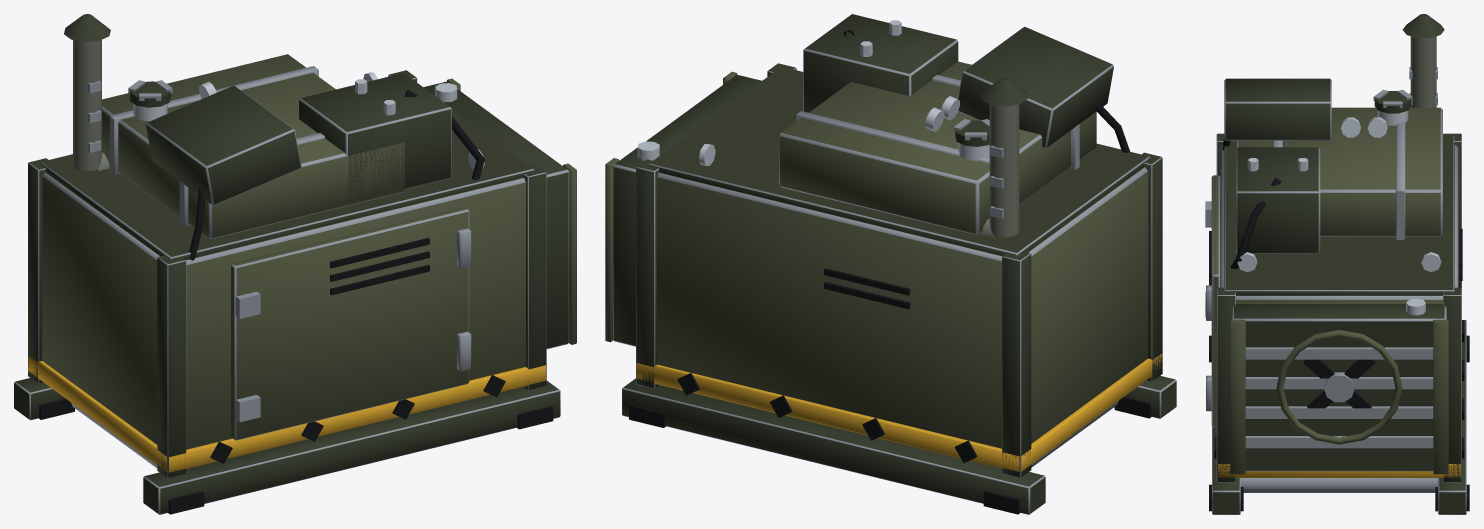
The model's file is generador_energia.glb.
The picture shows the model from 3 angles, left to right: view 1: azimuth 30°, elevation 25°; view 2: azimuth 150°, elevation 25°; view 3: azimuth 270°, elevation 25°; orthographic projection. The views are drawn at different scales.
Visible parts, largest first — view 1: cuerpo, puerta_servicio, deposito, patin_1, techo, bateria, panel_control, banda_peligro, radiador, esquinero_1, esquinero_2, escape (+10 smaller); view 2: cuerpo, deposito, techo, patin_2, panel_control, banda_peligro, bateria, radiador, esquinero_3, esquinero_4, escape, esquinero_1 (+6 smaller); view 3: radiador, deposito, techo, bateria, panel_control, cuerpo, esquinero_2, travesaño_2, esquinero_4, aro_ventilador, marco_radiador_1, marco_radiador_2 (+22 smaller).
Part boxes in pixels (<box>): cuerpo: <box>42,172,525,449</box>; puerta_servicio: <box>231,207,469,440</box>; deposito: <box>102,54,405,239</box>; patin_1: <box>143,380,560,514</box>; techo: <box>40,109,534,259</box>; bateria: <box>299,73,451,201</box>; panel_control: <box>146,85,301,205</box>; banda_peligro: <box>28,356,545,472</box>; radiador: <box>423,81,569,348</box>; esquinero_1: <box>157,255,186,478</box>; esquinero_2: <box>523,165,546,390</box>; escape: <box>73,40,101,171</box>; cuerpo: <box>657,167,1147,448</box>; deposito: <box>779,61,1096,234</box>; techo: <box>648,66,1150,255</box>; patin_2: <box>622,378,1045,514</box>; panel_control: <box>958,27,1113,148</box>; banda_peligro: <box>636,354,1162,471</box>; bateria: <box>803,14,958,112</box>; radiador: <box>613,74,761,346</box>; esquinero_3: <box>1002,251,1031,477</box>; esquinero_4: <box>636,159,659,388</box>; escape: <box>989,104,1019,237</box>; esquinero_1: <box>1142,152,1162,381</box>; radiador: <box>1232,304,1446,471</box>; deposito: <box>1236,107,1442,236</box>; techo: <box>1224,135,1454,295</box>; bateria: <box>1236,147,1320,253</box>; panel_control: <box>1224,78,1331,140</box>; cuerpo: <box>1220,145,1458,303</box>; esquinero_2: <box>1216,287,1235,482</box>; travesaño_2: <box>1240,478,1437,492</box>; esquinero_4: <box>1443,287,1461,482</box>; aro_ventilador: <box>1276,330,1402,444</box>; marco_radiador_1: <box>1230,319,1245,474</box>; marco_radiador_2: <box>1433,319,1448,474</box>.
Size of the model in its own units: 1.14 by 1 by 0.69.
